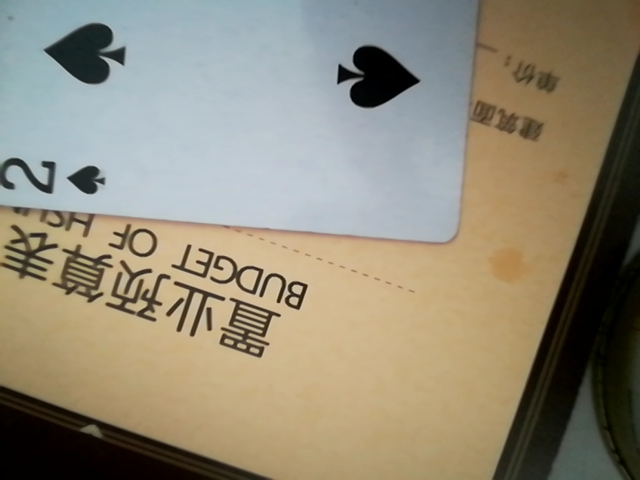ht 2: (5, 0, 489, 240)
